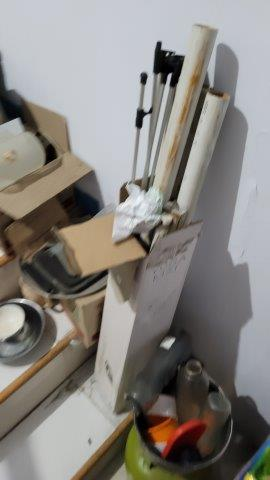kertas: (113, 183, 167, 245)
